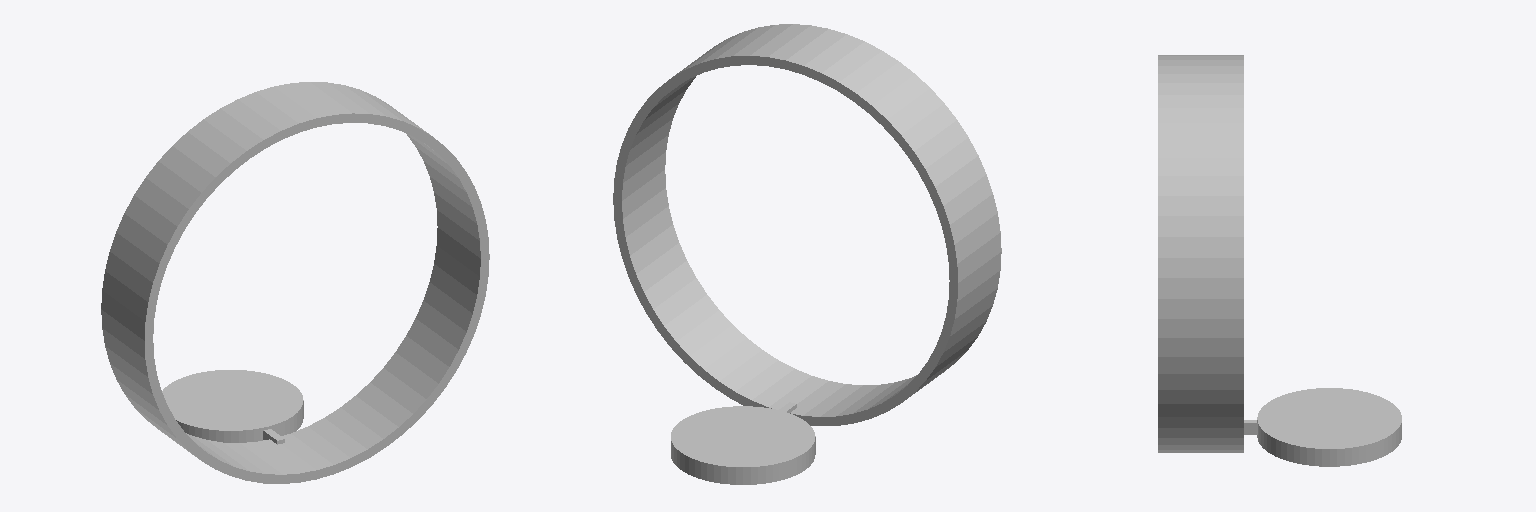
File: GoodBoy2.obj
3 renders of one model, left to right at view 1: azimuth 30°, elevation 25°; view 2: azimuth 150°, elevation 25°; view 3: azimuth 270°, elevation 25°, orthographic.
Visible parts, largest first — view 1: Cylinder; view 2: Cylinder; view 3: Cylinder.
Part boxes in pixels (left/top/right/bottom): Cylinder: left=101, top=82, right=489, bottom=483; Cylinder: left=613, top=24, right=1001, bottom=484; Cylinder: left=1158, top=55, right=1401, bottom=466.
Bounding box in the file's own units: 20 × 20.21 × 12.26.